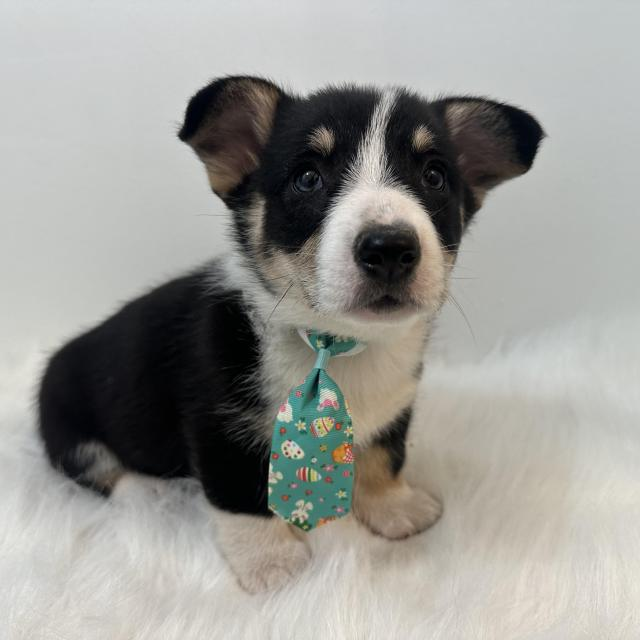corgi_dog: (173, 64, 555, 345)
